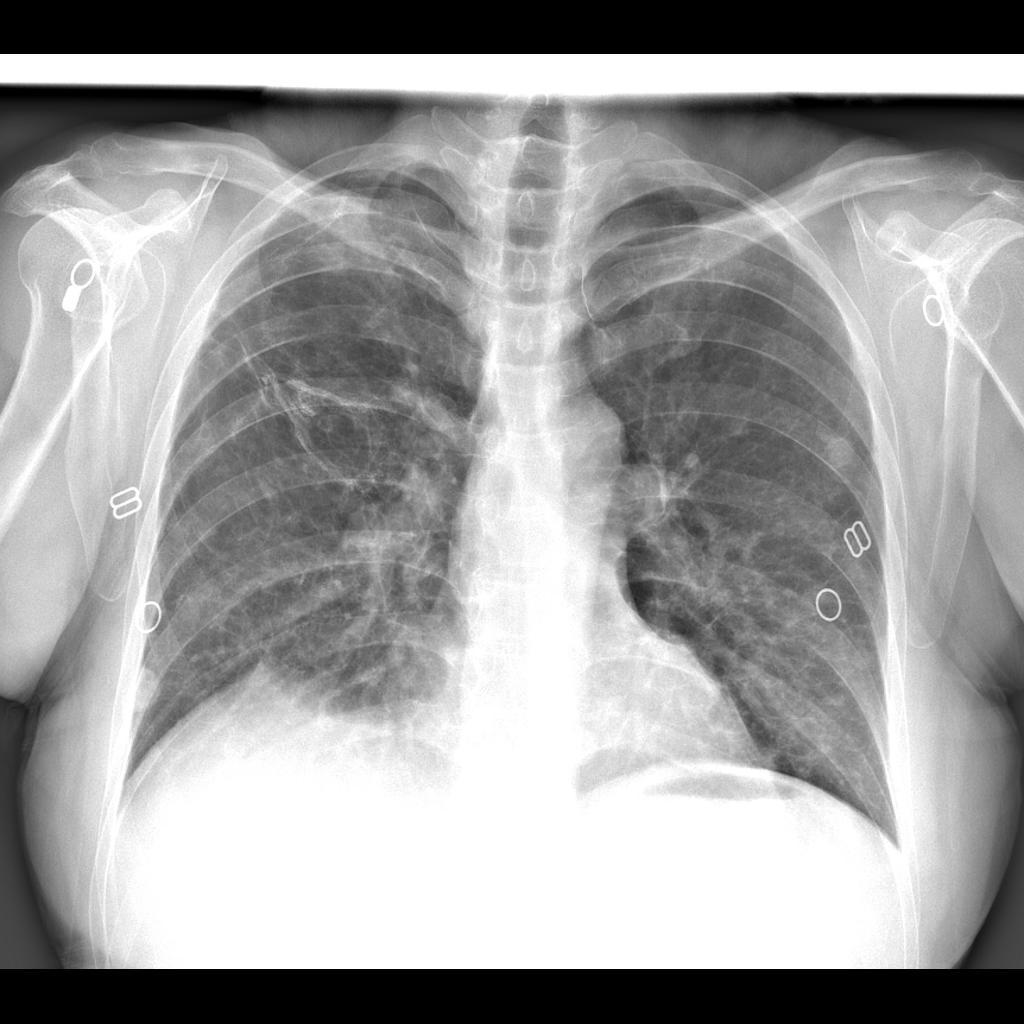Nodule: (821, 431, 856, 472)
